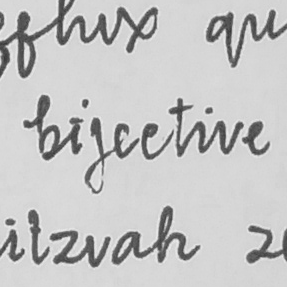b: (34, 93, 63, 161)
c: (139, 120, 163, 163)
e: (246, 118, 274, 158), (110, 120, 135, 160)
i: (196, 104, 215, 155), (65, 113, 85, 157)
j: (83, 115, 108, 195)
t: (166, 94, 195, 160)
v: (215, 118, 245, 157)
